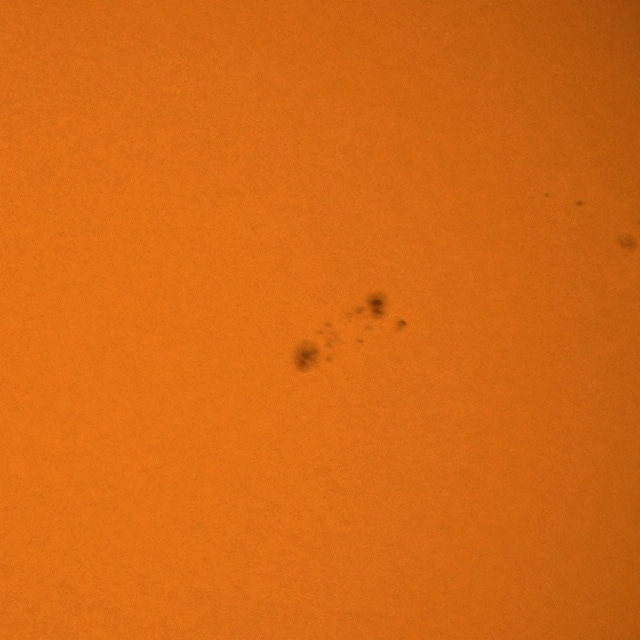sunspot: (292, 287, 416, 374), (574, 198, 586, 209)
